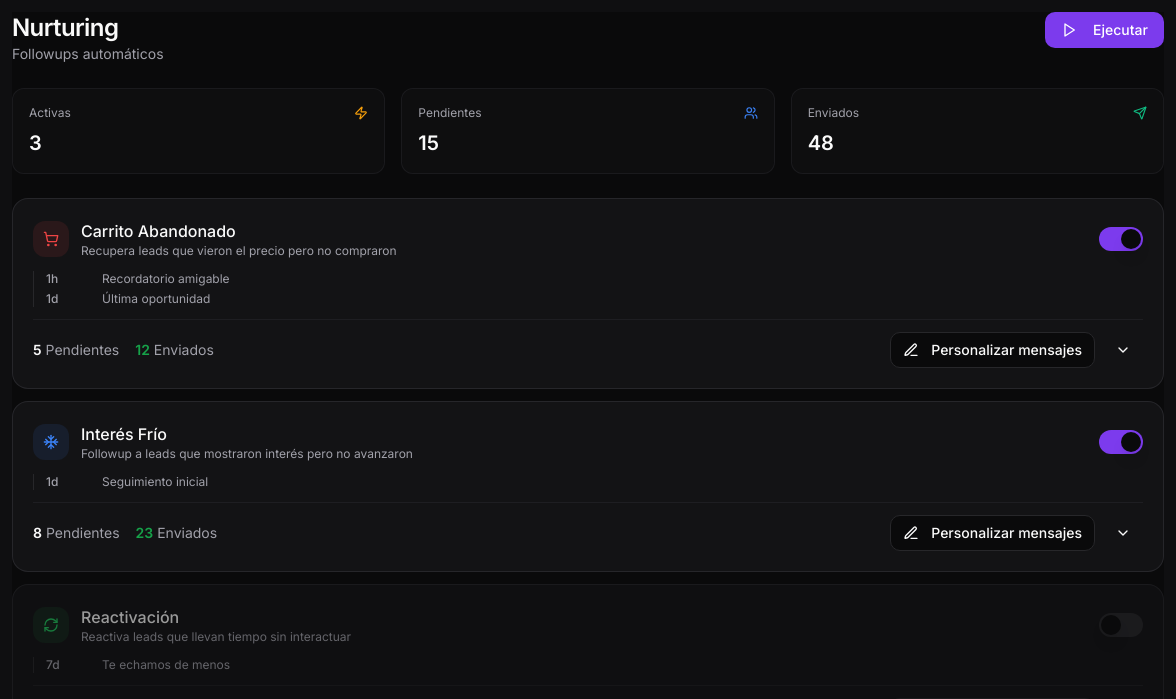
Nurturing Page › expanding sequence shows enrolled users section
Click the button without text in the row of "12" at coordinates (1123, 350), box [1103, 332, 1143, 368]
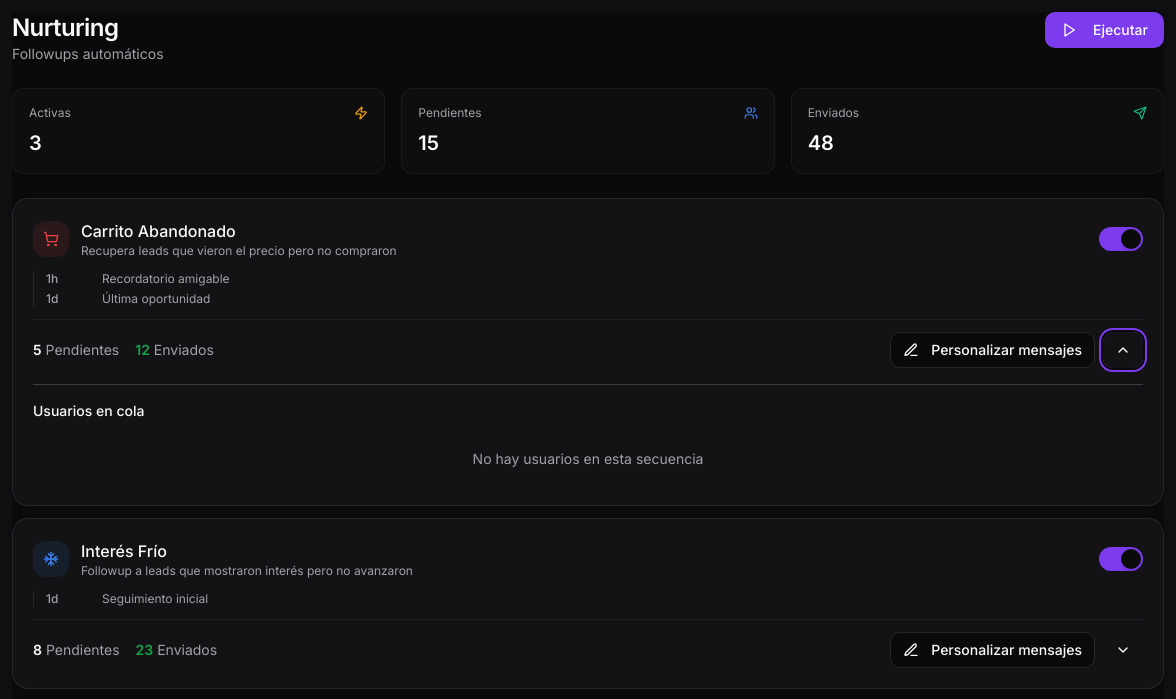
Now the heading "Usuarios en cola" is shown, box [33, 402, 144, 419]
